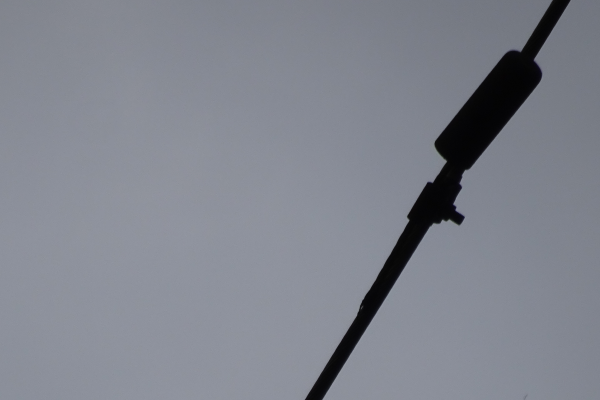damper_defect: (350, 44, 543, 323)
